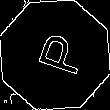P_W: (25, 29, 85, 81)
